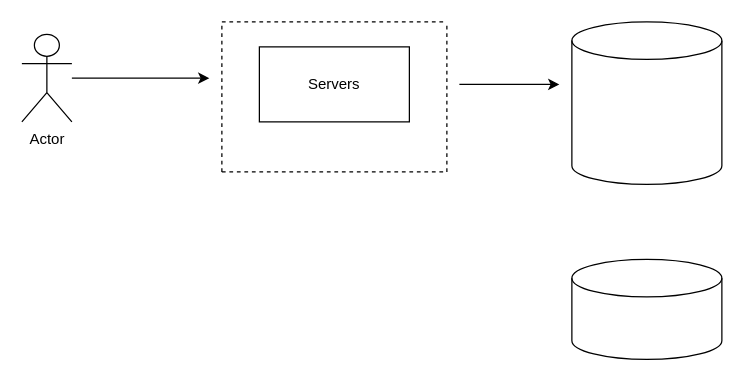
This 744x381 diagram has some shape labels left out. Each missing label, with the centre of its shape:
"Dynamo/Cassandra Chats DB" belongs at point (646, 102).
"Mentions" belongs at point (646, 308).
